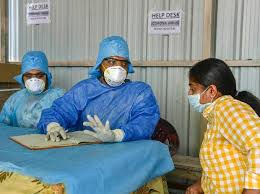mask: (185, 54, 231, 117), (98, 44, 133, 93), (19, 50, 47, 93)
